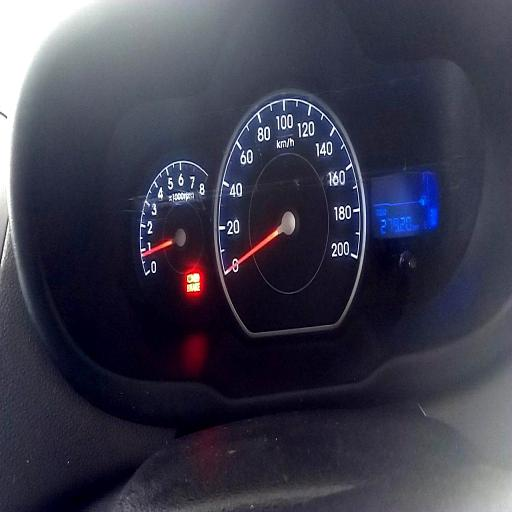tachometer: (140, 159, 215, 305)
